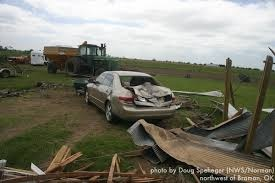Broken-glass: (115, 75, 154, 86)
Smashed: (120, 82, 178, 108)
